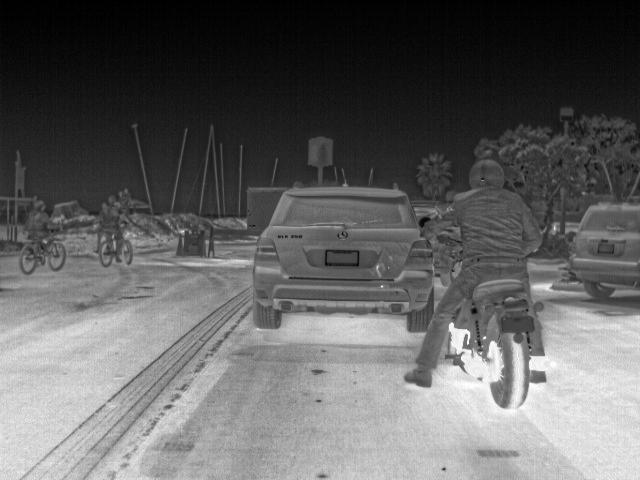car: (254, 181, 439, 333), (569, 200, 638, 306)
person: (405, 158, 545, 387), (20, 199, 57, 263), (105, 198, 129, 259)
